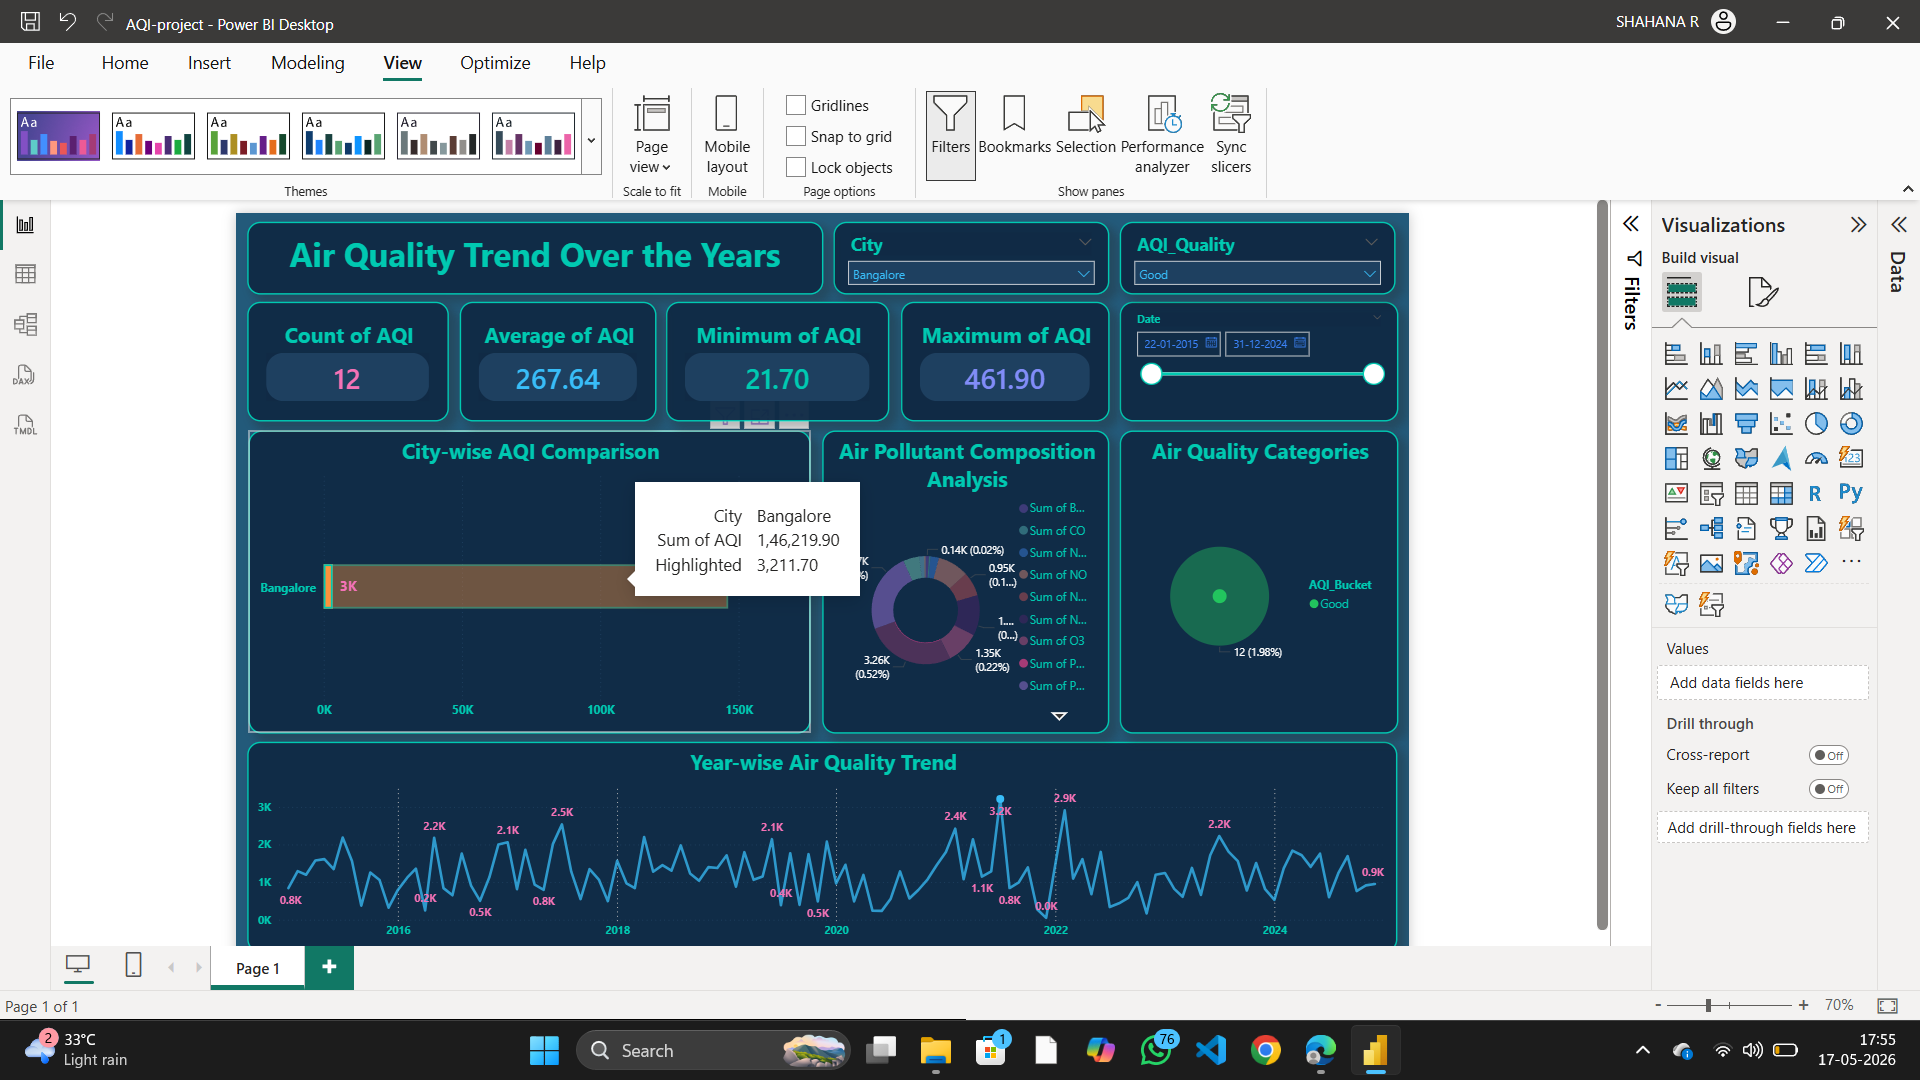

The page's visual inventory and layout, read from the dashboard file:
{"tool":"powerbi","page":{"name":"Page 1","canvas":[1340,856],"ordinal":0},"visuals":[{"type":"clusteredBarChart","title":"City-wise AQI Comparison","fields":{"Category":["city_day.City"],"Y":["Sum(city_day.AQI)"]},"box":[14,248,642,346],"z":0},{"type":"slicer","fields":{"Values":["city_day.City"]},"box":[683.3,10,315,83.3],"z":2000},{"type":"slicer","fields":{"Values":["city_day.Datetime"]},"box":[1010,101.7,318.3,136.7],"z":3000},{"type":"slicer","fields":{"Values":["city_day.AQI_Bucket"]},"box":[1010,10,315,83.3],"z":4000},{"type":"lineChart","title":"Year-wise Air Quality Trend","fields":{"Y":["Sum(city_day.AQI)"],"Category":["city_day.Datetime.Variation.Date Hierarchy.Year","city_day.Datetime.Variation.Date Hierarchy.Month"]},"box":[13.5,604,1314.8,240.4],"z":6000},{"type":"textbox","box":[13.3,10,658.3,83.3],"z":7000},{"type":"cardVisual","title":"Count of AQI","fields":{"Data":["CountNonNull(city_day.AQI)"]},"box":[13.3,101.7,230,136.7],"z":8000},{"type":"cardVisual","title":"Maximum of AQI","fields":{"Data":["Max(city_day.AQI)"]},"box":[760,101.7,238.3,136.7],"z":9000},{"type":"cardVisual","title":"Minimum of AQI","fields":{"Data":["Min(city_day.AQI)"]},"box":[491.7,101.7,255,136.7],"z":10000},{"type":"cardVisual","title":"Average of AQI","fields":{"Data":["Avg(city_day.AQI)"]},"box":[255,101.7,225,136.7],"z":11000},{"type":"pieChart","title":"Air Quality Categories","fields":{"Category":["city_day.AQI_Bucket"],"Y":["CountNonNull(city_day.AQI_Bucket)"]},"box":[1010,248.3,318.3,346.7],"z":11001},{"type":"donutChart","title":"Air Pollutant Composition Analysis","fields":{"Y":["Sum(city_day.Benzene)","Sum(city_day.CO)","Sum(city_day.NH3)","Sum(city_day.NO)","Sum(city_day.NO2)","Sum(city_day.NOx)","Sum(city_day.O3)","Sum(city_day.PM10)","Sum(city_day.PM2.5)","Sum(city_day.SO2)","Sum(city_day.Toluene)","Sum(city_day.Xylene)"]},"box":[670,248.3,328.3,346.7],"z":11002}]}

Visuals, with their boxes on the page's 1340x856 design canvas (x1, y1, x2, y2). These are canvas units, not pixel positions in the 1920x1080 screenshot, which may show the page scaled, cropped or inside an application window:
"City-wise AQI Comparison" clusteredBarChart: [14,248,656,594]
slicer - city_day.City: [683,10,998,93]
slicer - city_day.Datetime: [1010,102,1328,238]
slicer - city_day.AQI_Bucket: [1010,10,1325,93]
"Year-wise Air Quality Trend" lineChart: [14,604,1328,844]
textbox: [13,10,672,93]
"Count of AQI" cardVisual: [13,102,243,238]
"Maximum of AQI" cardVisual: [760,102,998,238]
"Minimum of AQI" cardVisual: [492,102,747,238]
"Average of AQI" cardVisual: [255,102,480,238]
"Air Quality Categories" pieChart: [1010,248,1328,595]
"Air Pollutant Composition Analysis" donutChart: [670,248,998,595]
